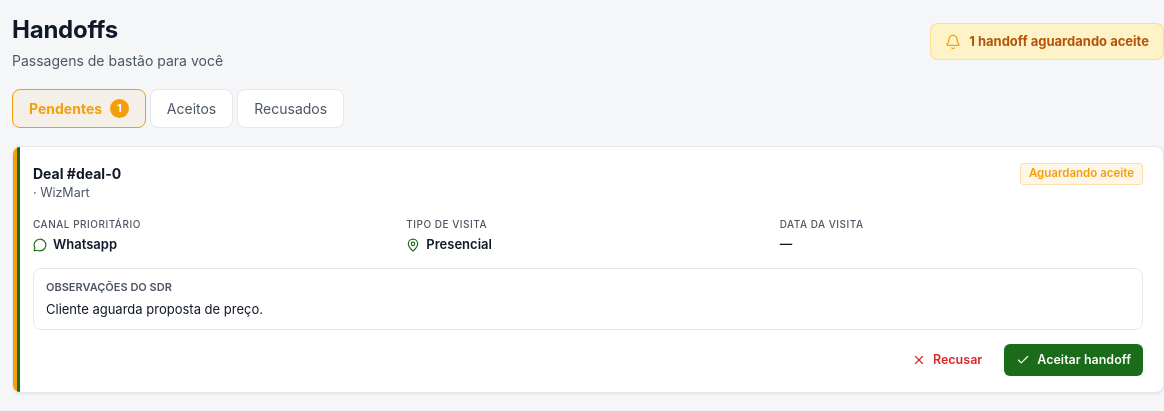
Test case: HandoffsPage — tabs › clicar em Recusados exibe estado vazio se não há recusados
Click the button "Recusados": (291, 108) [237,89,344,128]
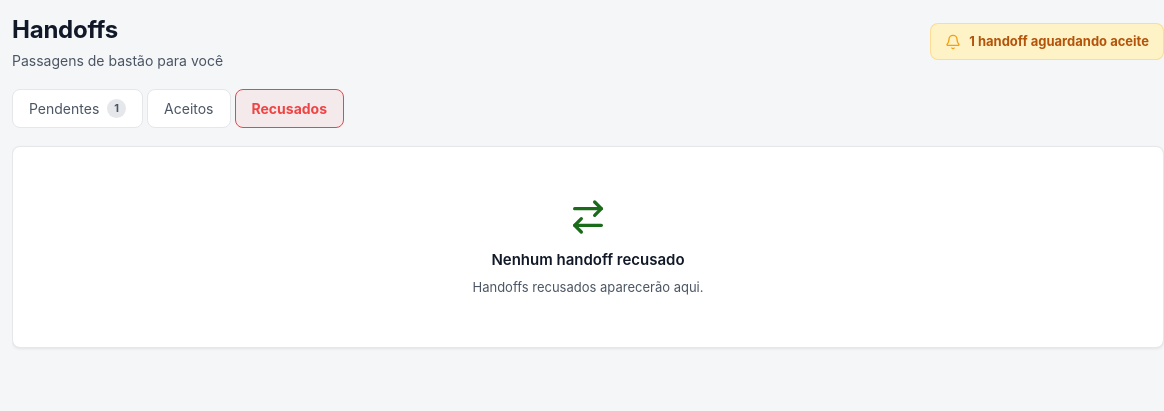
Check: the text "Nenhum handoff recusado" is shown, box [491,250,685,269]
